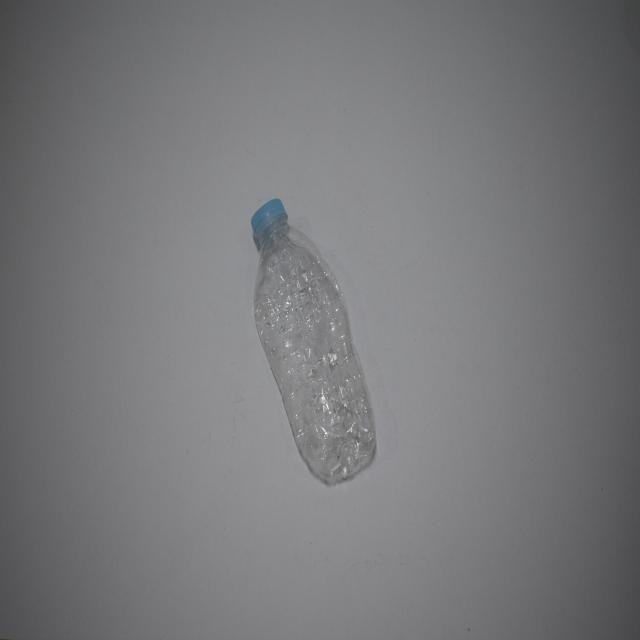empty: (251, 199, 376, 484)
